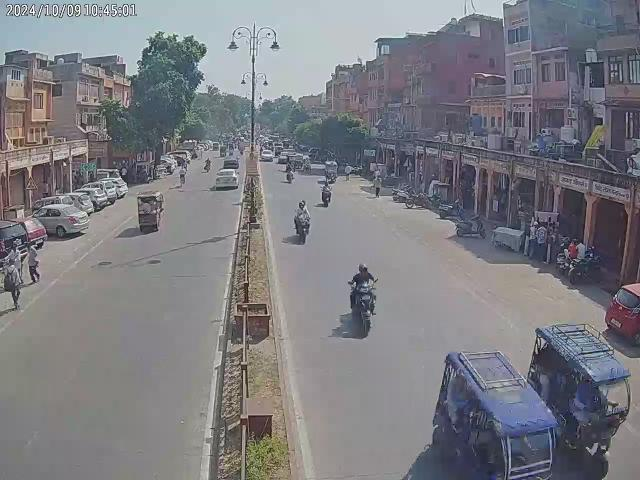auto: (430, 350, 560, 480), (528, 322, 634, 476), (136, 190, 165, 234), (324, 159, 338, 182)
car: (30, 199, 90, 238), (604, 283, 640, 345), (0, 216, 48, 248), (80, 178, 127, 204), (215, 168, 239, 188)
helmet: (356, 262, 371, 278)
motorbike: (568, 254, 604, 284), (406, 191, 428, 211)
motorbike-rider: (293, 200, 313, 244)
person: (5, 257, 23, 310), (25, 241, 43, 290), (372, 174, 382, 198)
scooty: (456, 212, 484, 238), (438, 199, 464, 219)
scooty-rider: (347, 262, 379, 336), (320, 180, 332, 206)
